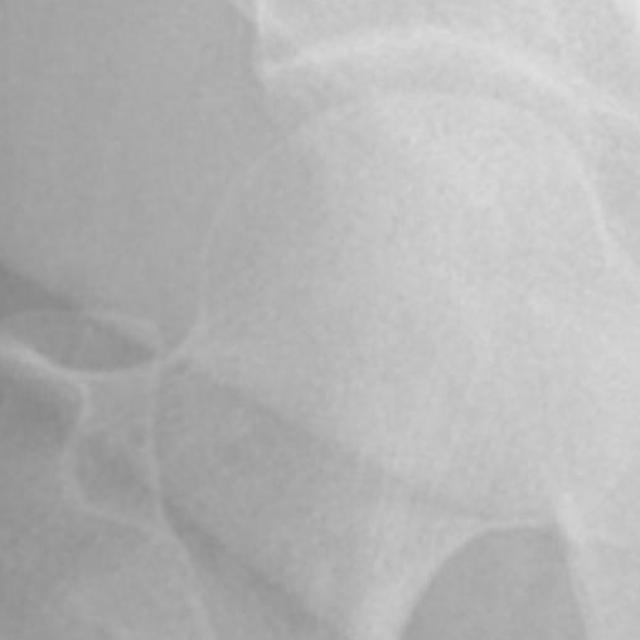Fitted_femural_head: (432, 87, 478, 478)
